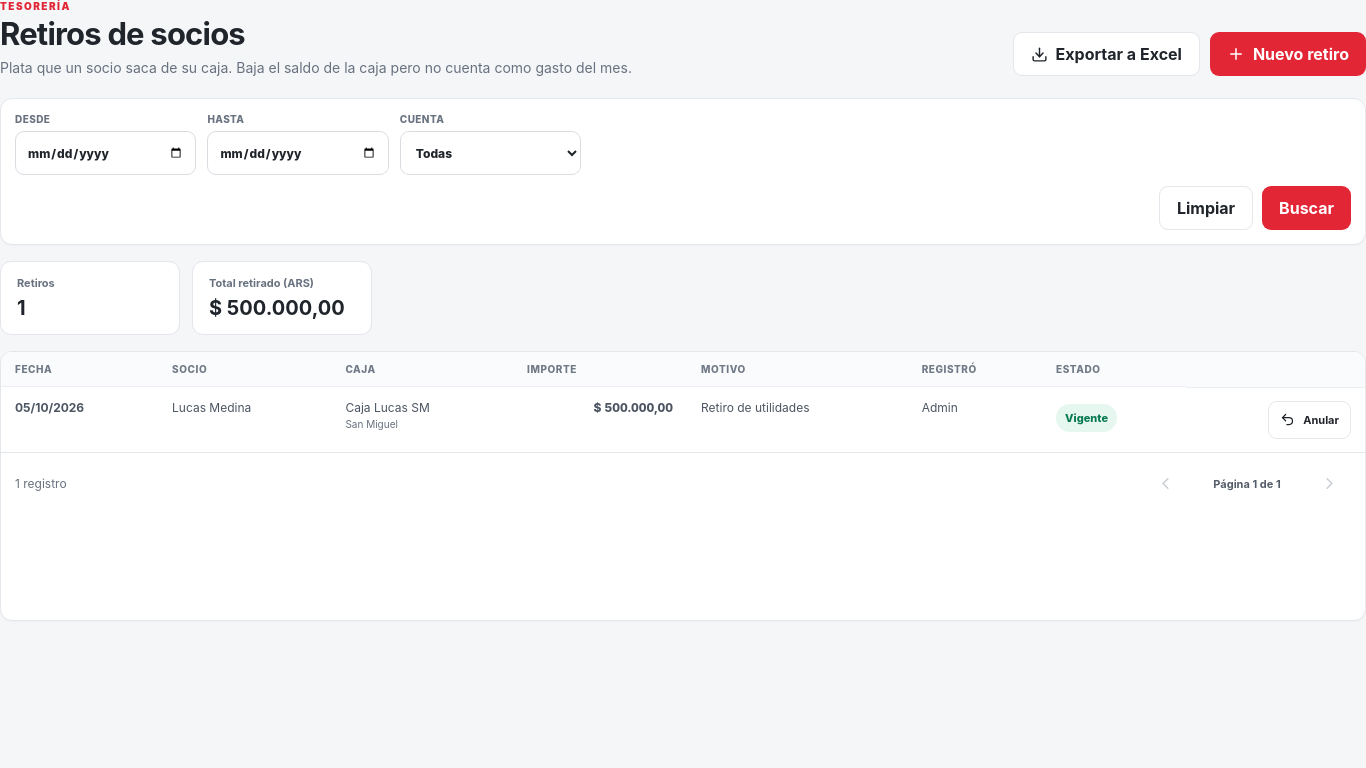
Retiros de socios › no manda un importe inválido
Expected: the table is shown, [1,352,1365,452]
Step 1. Click the button "Nuevo retiro" → click(1288, 54), box [1210,32,1365,76]
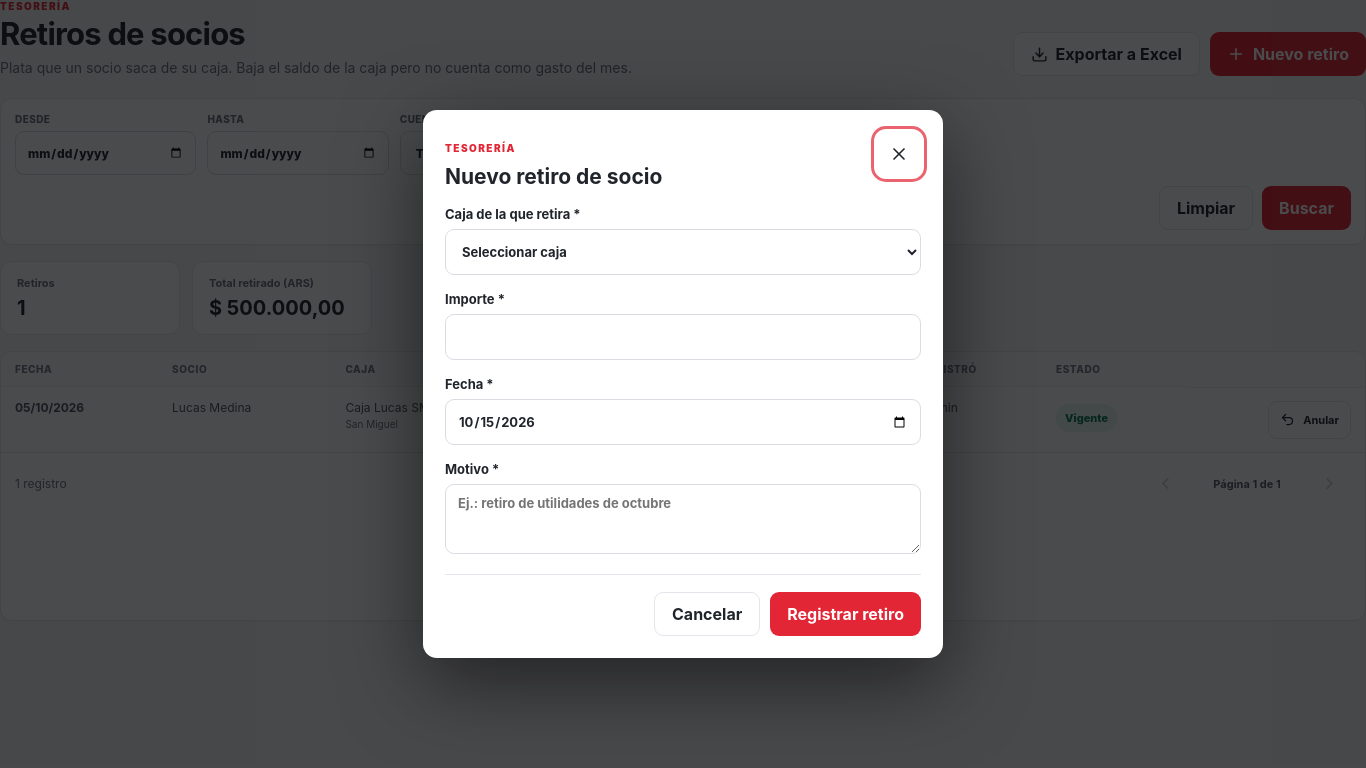
Step 2. Select "Caja Lucas SM · Lucas Medina · Caja de socio — San Miguel" in the dropdown labelled "Caja de la que retira *" → (683, 252), box [445,229,921,275]
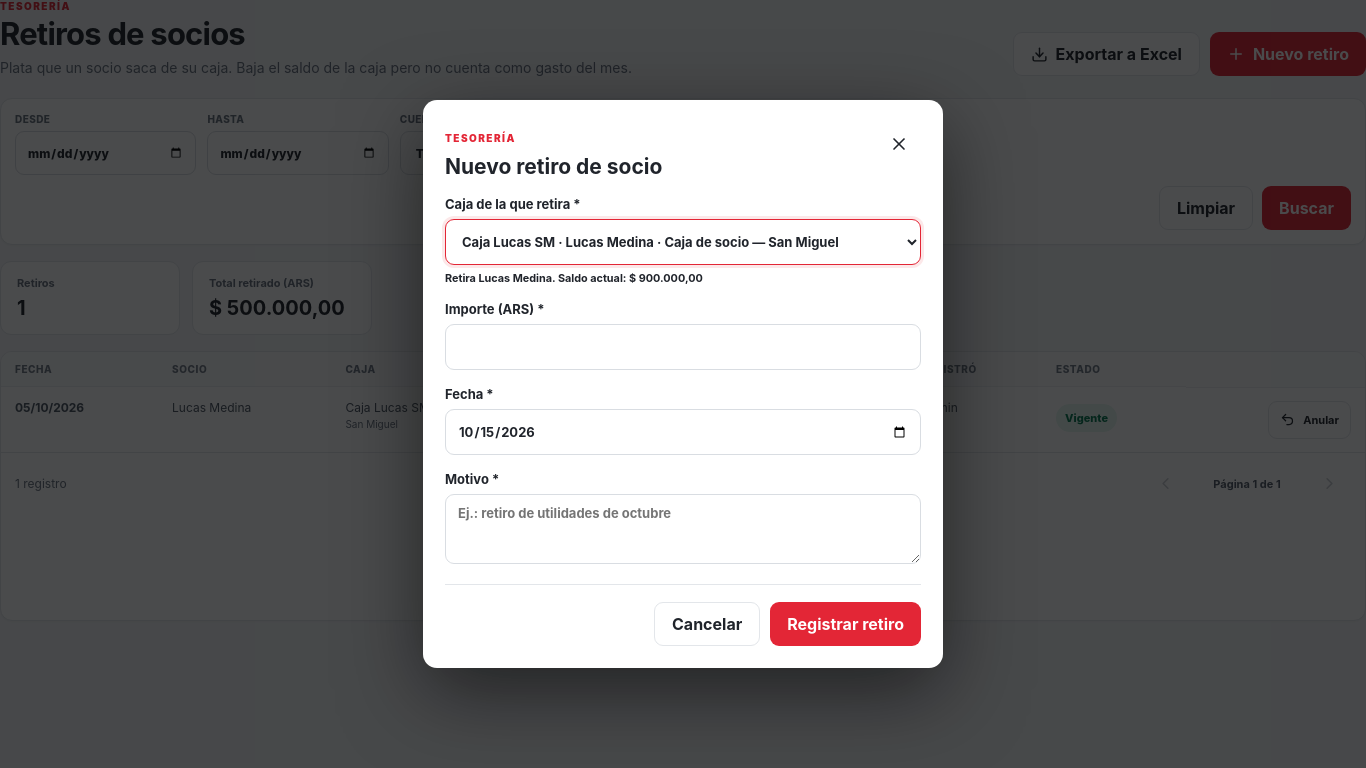
Step 3. Type "0" into the field labelled "Importe (ARS) *" → (683, 347), box [445,324,921,370]
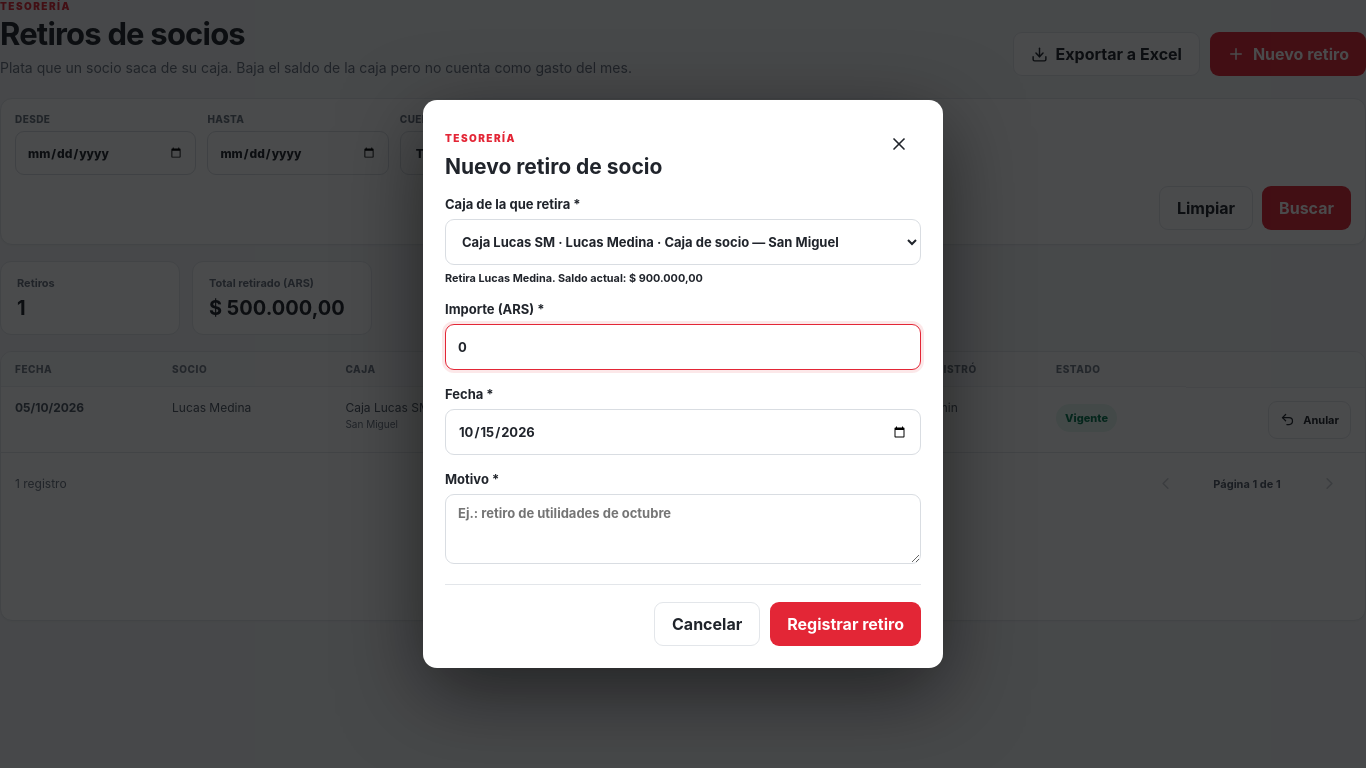
Step 4. Type "x" into the text box labelled "Motivo *" → (683, 529), box [445,494,921,564]
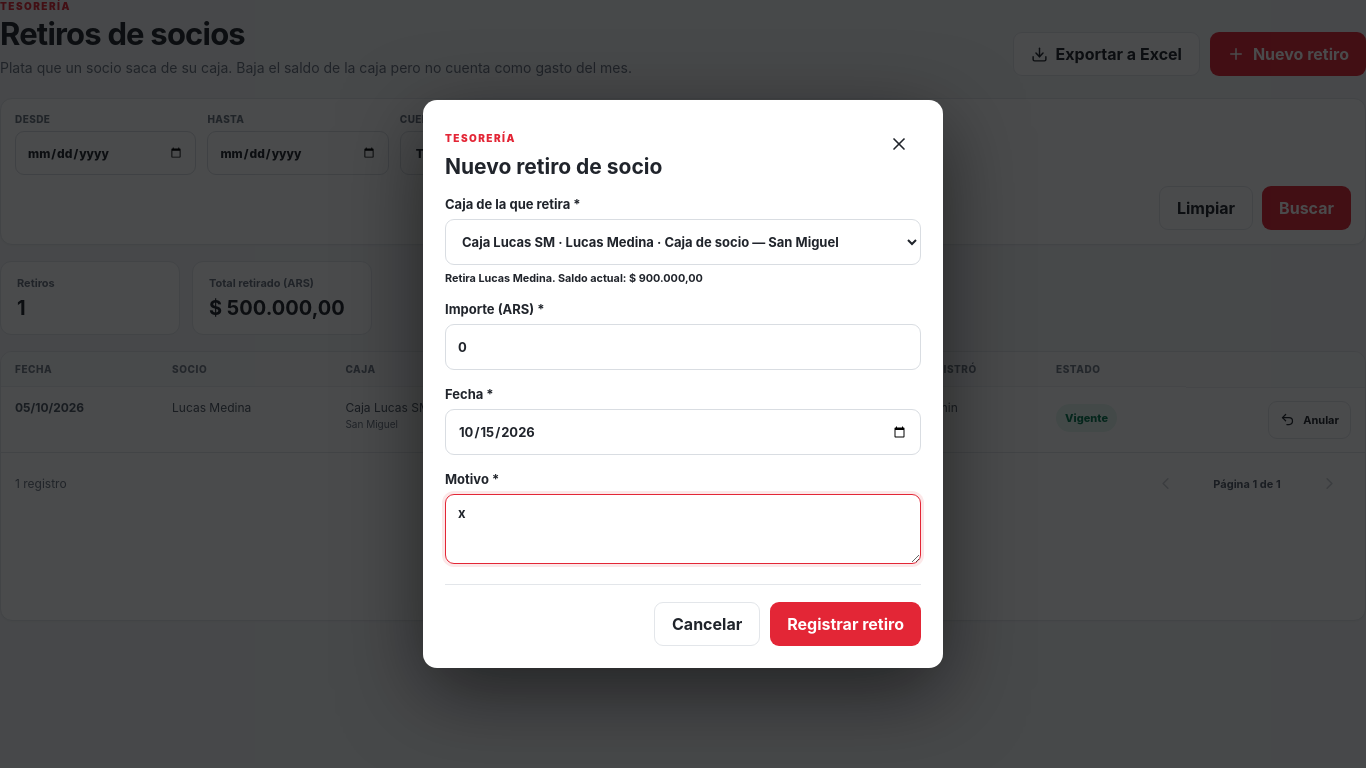
Step 5. Click the button "Registrar retiro" → click(846, 624), box [770,602,921,646]
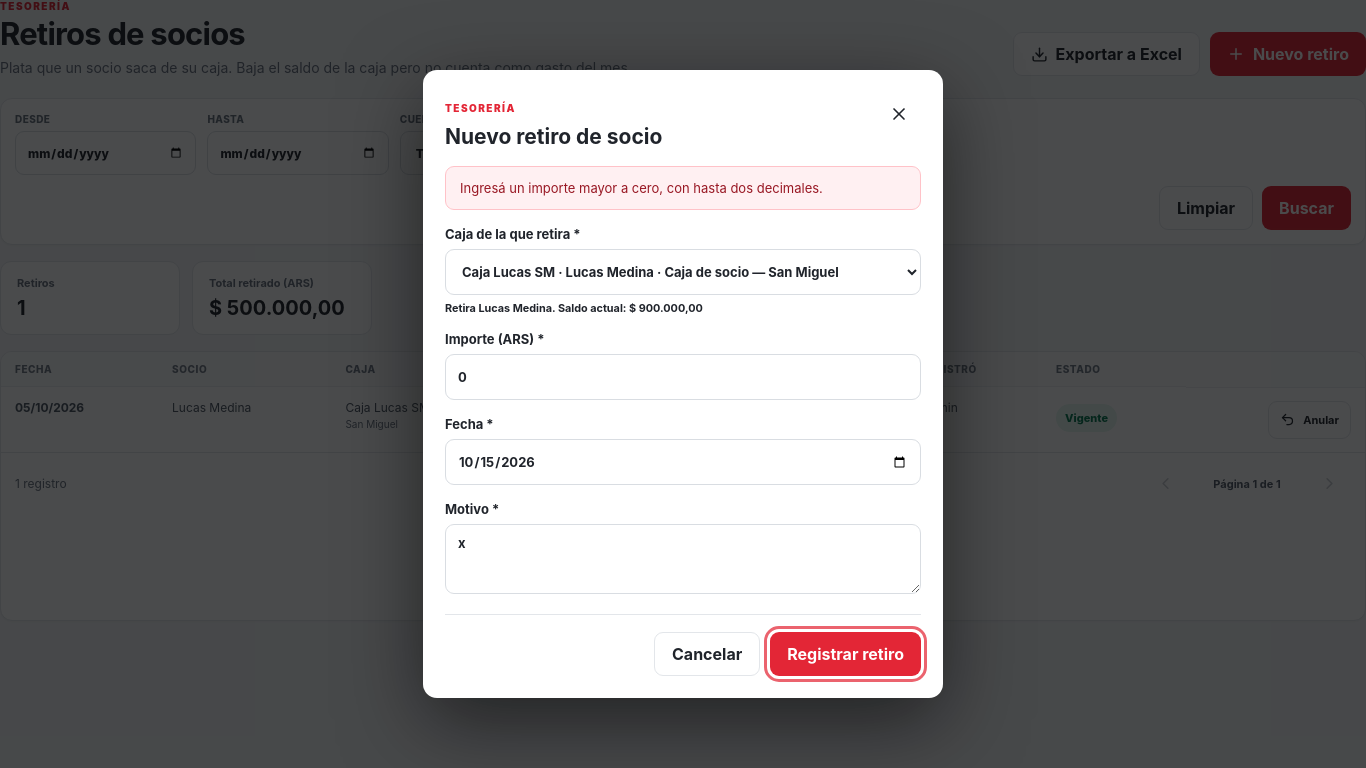
Now the message shows "importe mayor a cero", box [460,180,823,196]
